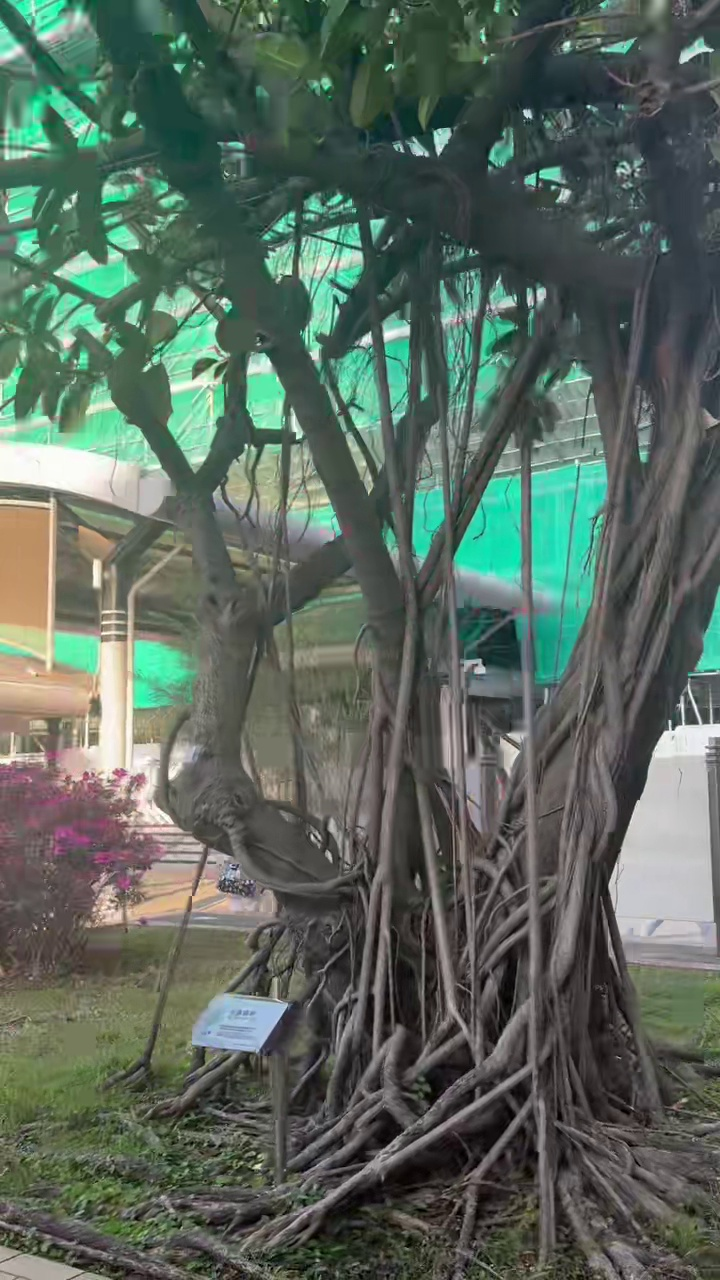Ficus elastica: (88, 0, 719, 1279)
